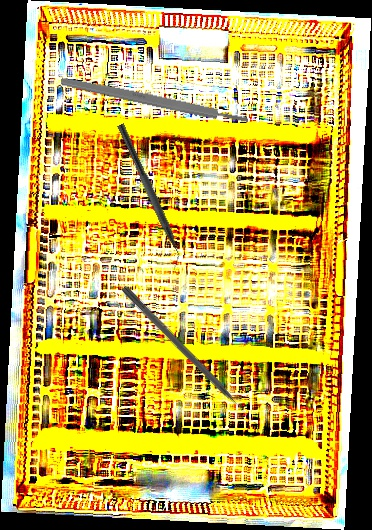Chopper: (107, 123, 189, 271)
Pusher: (119, 284, 256, 426)
Scalpel Handle: (59, 75, 250, 127)
